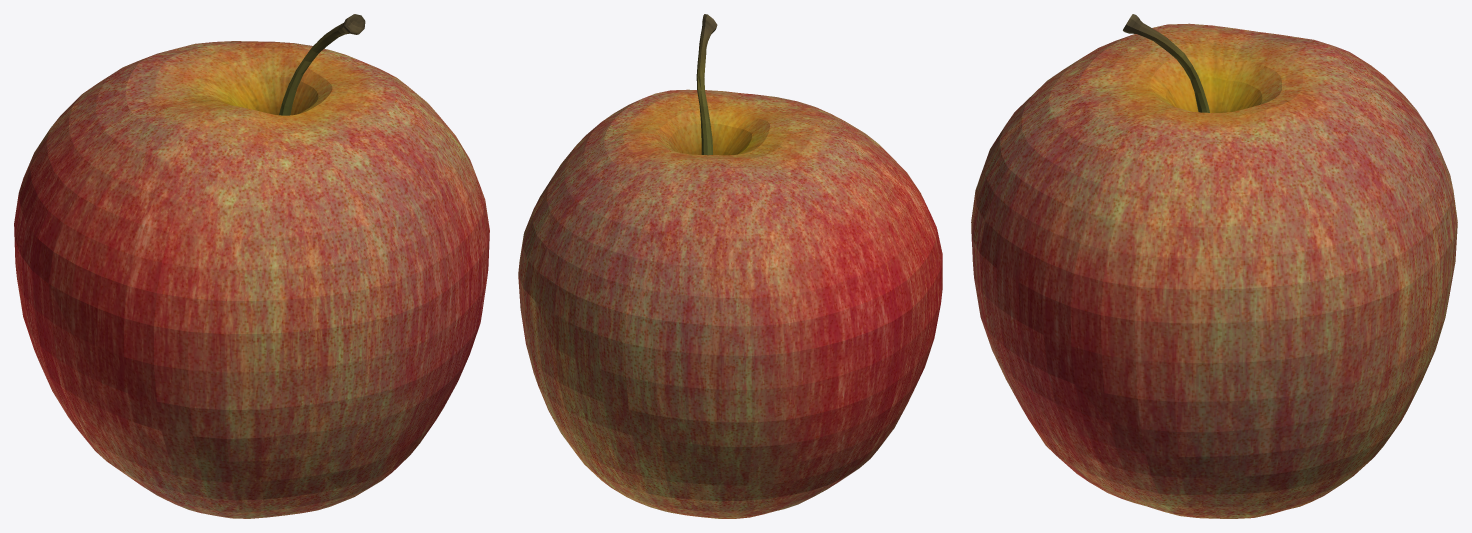
The model's file is ZOABIIG0LEPMZ9DJ6L9O6WSTZ.fbx.
The picture shows the model from 3 angles, left to right: view 1: azimuth 30°, elevation 25°; view 2: azimuth 150°, elevation 25°; view 3: azimuth 270°, elevation 25°; orthographic projection. The views are drawn at different scales.
Parts seen in each view (by area): view 1: Object_TexMap; view 2: Object_TexMap; view 3: Object_TexMap.
Boxes of the visible parts, bbox=[...] form: Object_TexMap: bbox=[14, 14, 489, 518]; Object_TexMap: bbox=[518, 14, 942, 518]; Object_TexMap: bbox=[971, 14, 1457, 518].
Size of the model in its own units: 2.19 by 2.5 by 2.23.
